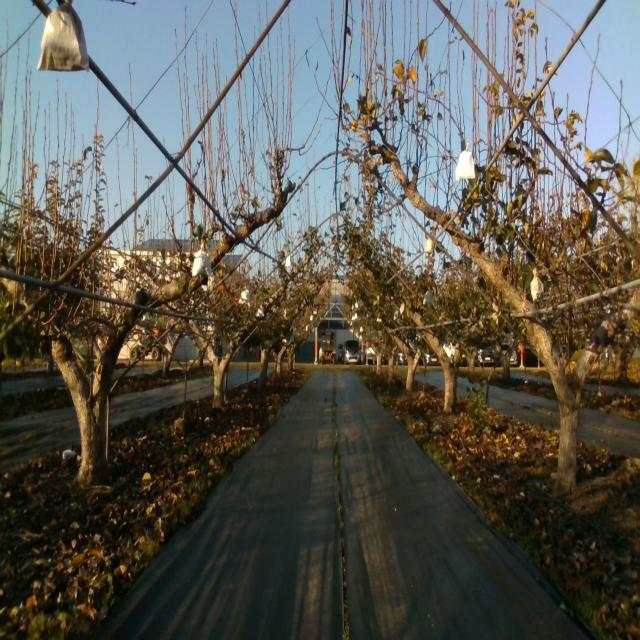pearbags: (36, 0, 92, 73), (456, 142, 476, 183), (191, 244, 214, 276), (531, 268, 544, 302), (238, 286, 252, 307)
